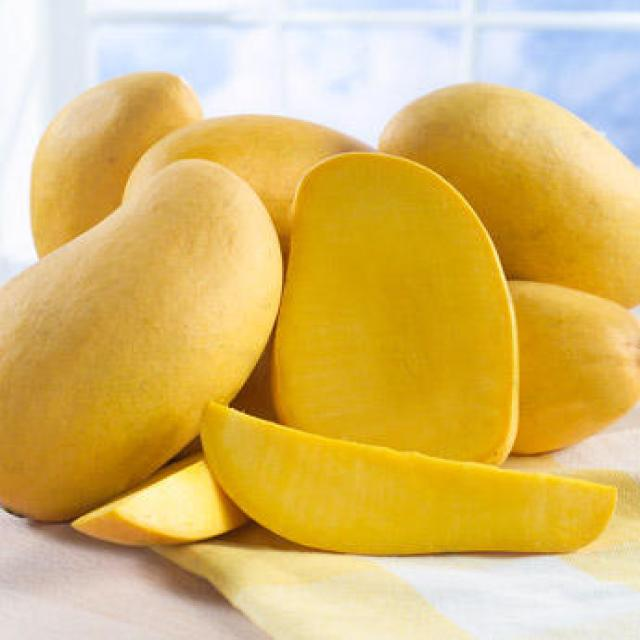mango: (0, 151, 284, 503), (272, 147, 521, 466)
